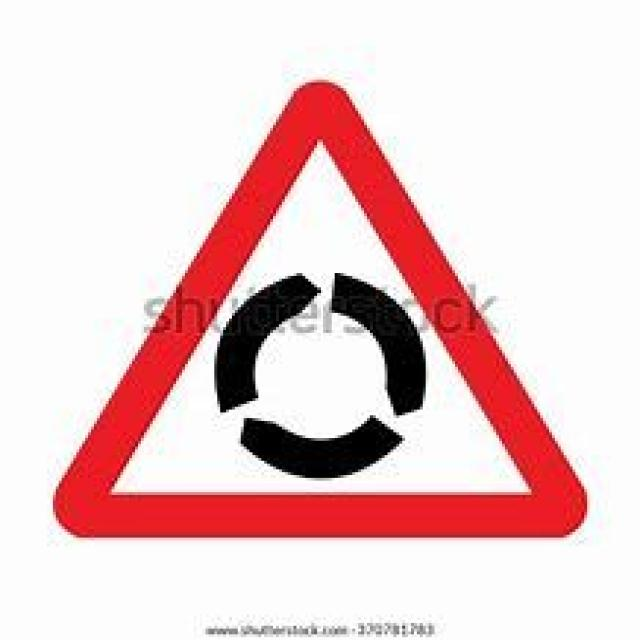ROUNDABOUT: (48, 72, 590, 544)
